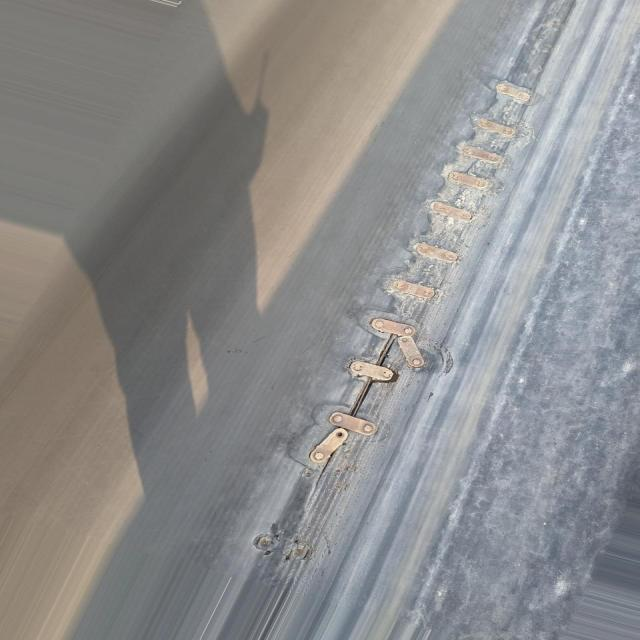patch work: (226, 69, 564, 574)
